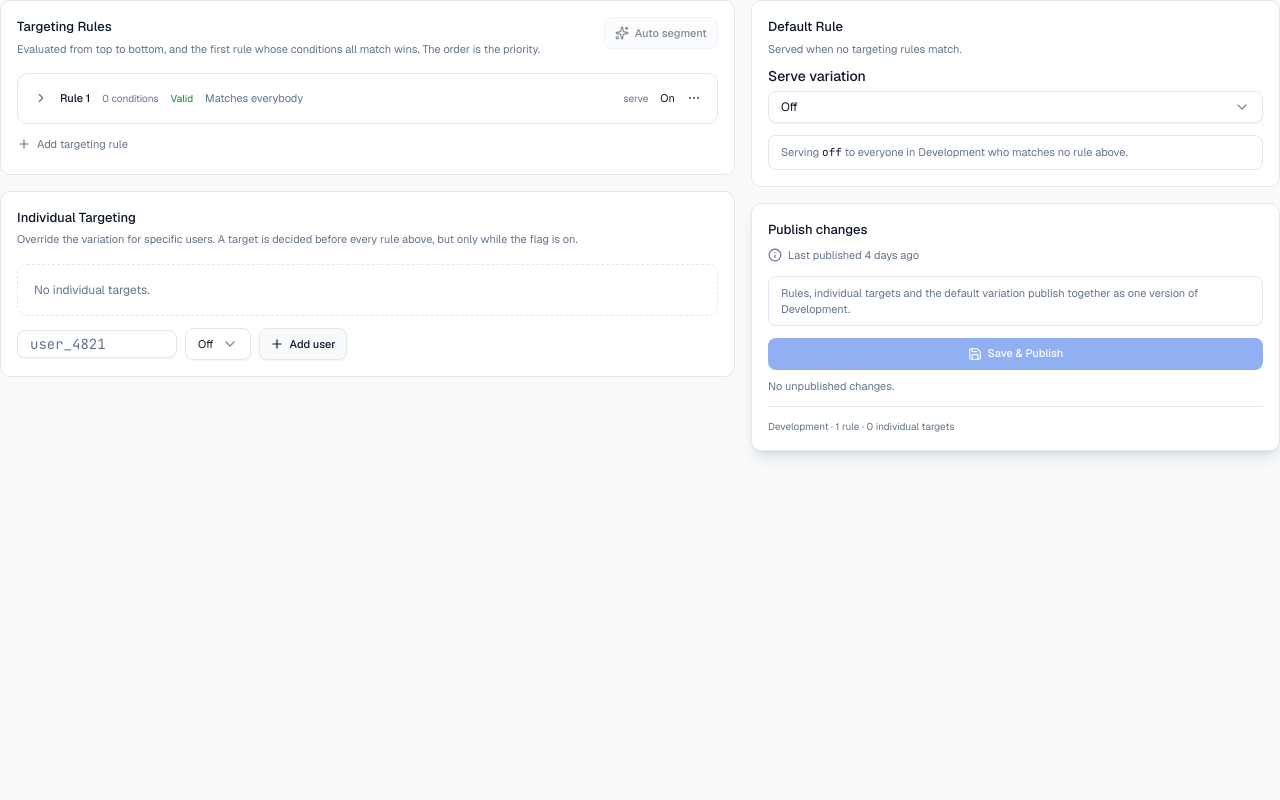
Test: publishing › offers to publish once the draft changes
Click the button "Add targeting rule" at (72, 144), box [17,136,128,152]
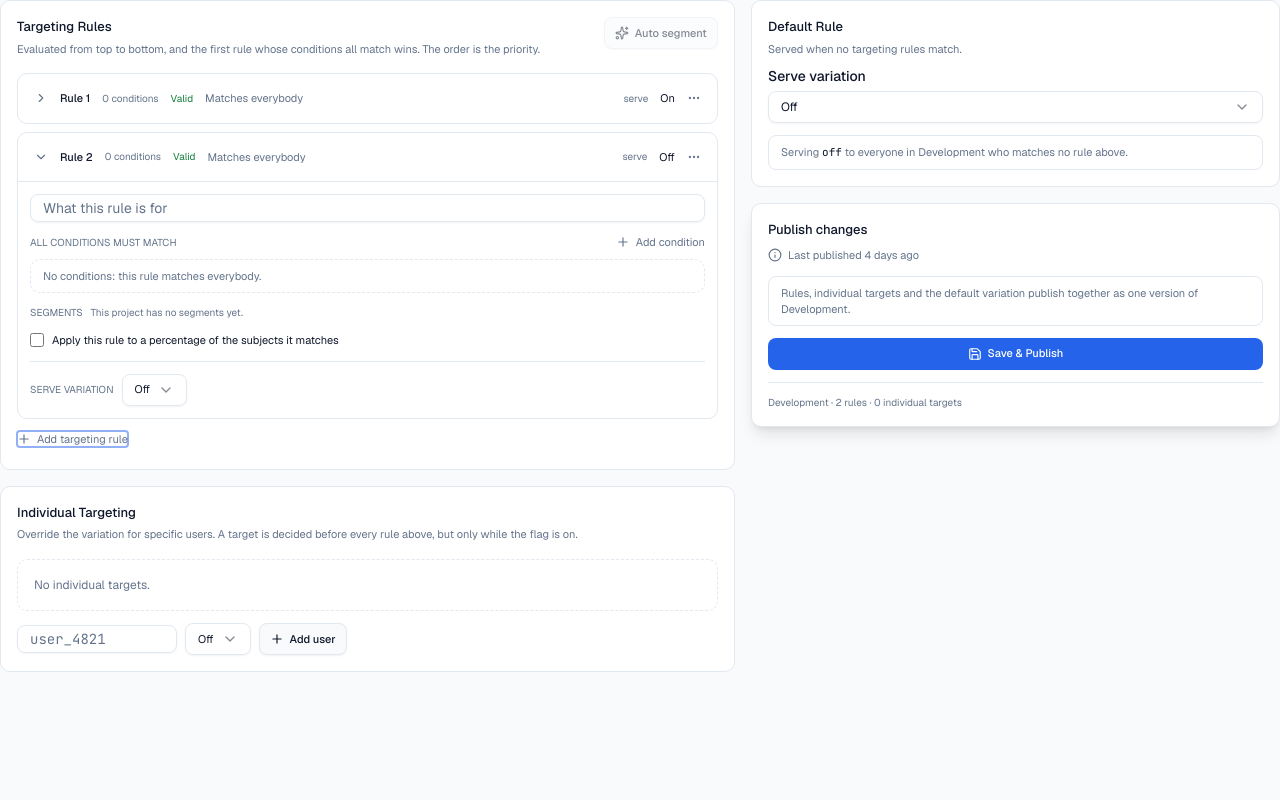
Expected: the button "Save & Publish" is enabled, [768,338,1263,370]
Expected: the text "No unpublished changes." is gone
